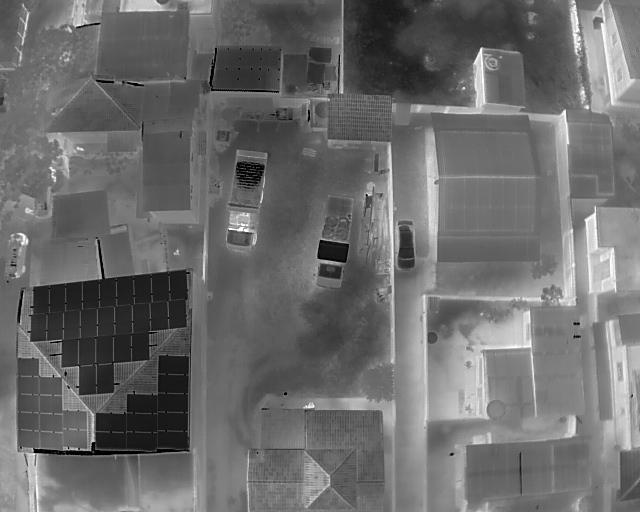car: (3, 230, 29, 278), (395, 219, 417, 271), (33, 172, 55, 221)
person: (303, 399, 317, 410), (23, 204, 35, 216)
truck: (225, 146, 268, 255), (314, 190, 352, 292)
